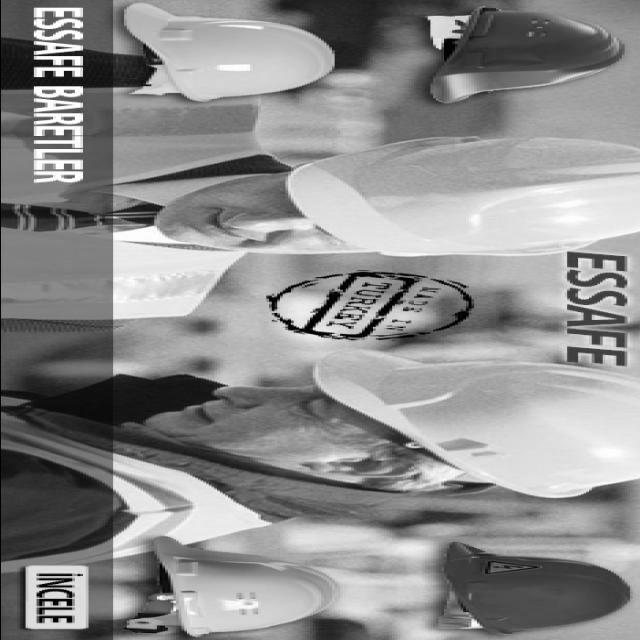construction helmet: (309, 349, 640, 499), (282, 136, 640, 257), (118, 2, 336, 103), (424, 7, 626, 107), (438, 541, 629, 635), (153, 538, 334, 636)
